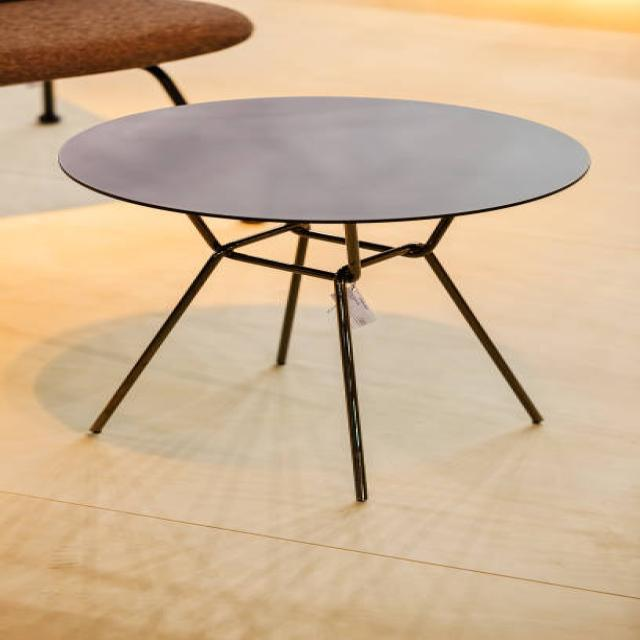table: (56, 93, 592, 502)
